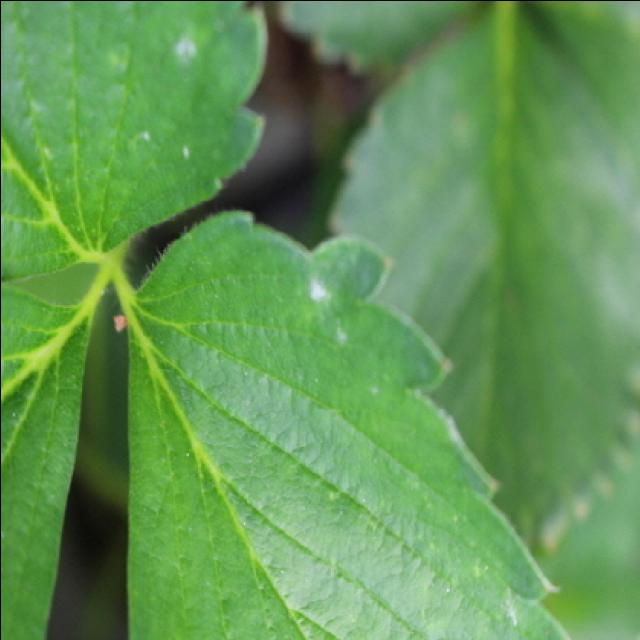Powdery Mildew Leaf: (124, 210, 574, 640), (0, 2, 266, 284)
